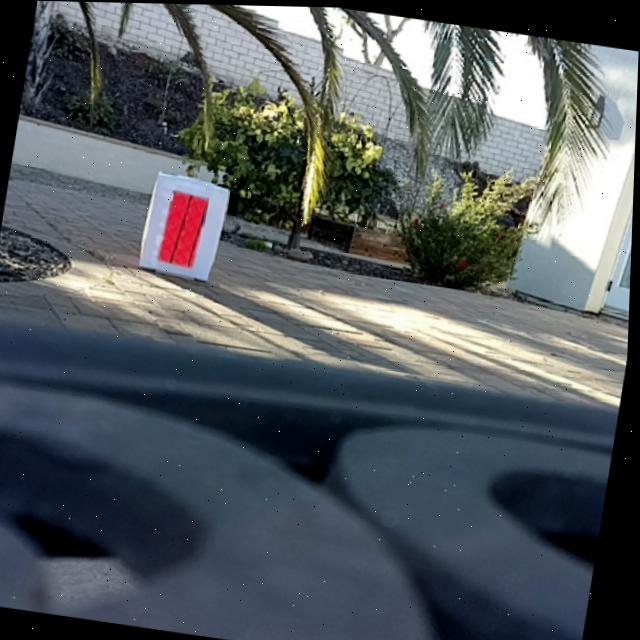led: (160, 190, 208, 267)
